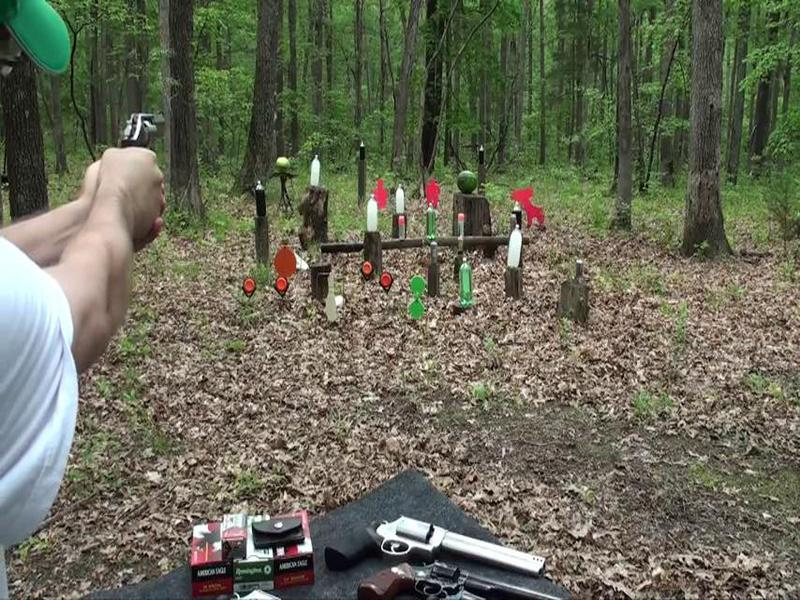Revolver: (109, 96, 177, 165)
